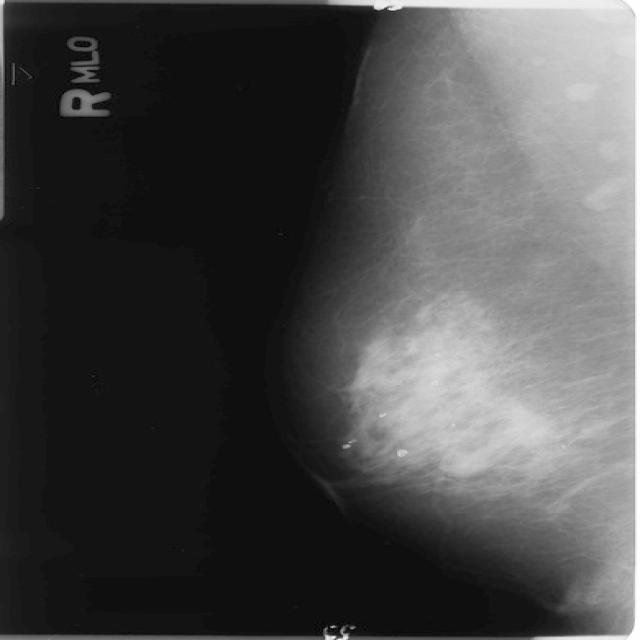tumour: (436, 449, 486, 477)
